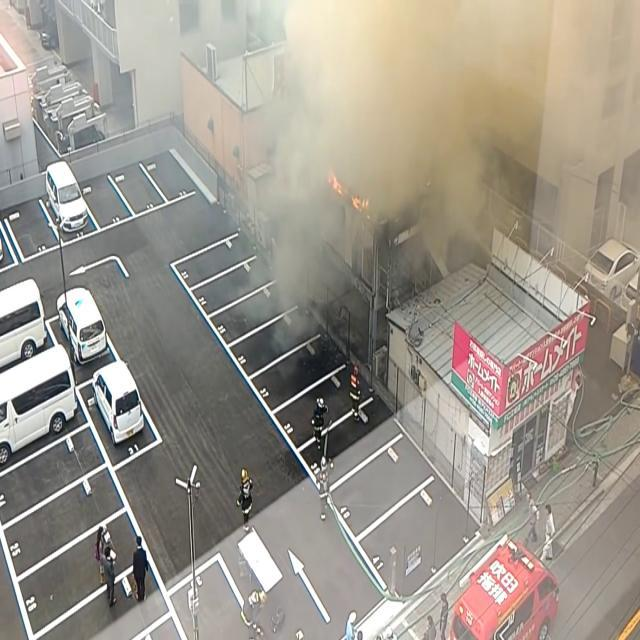Smoke: (227, 0, 530, 293)
